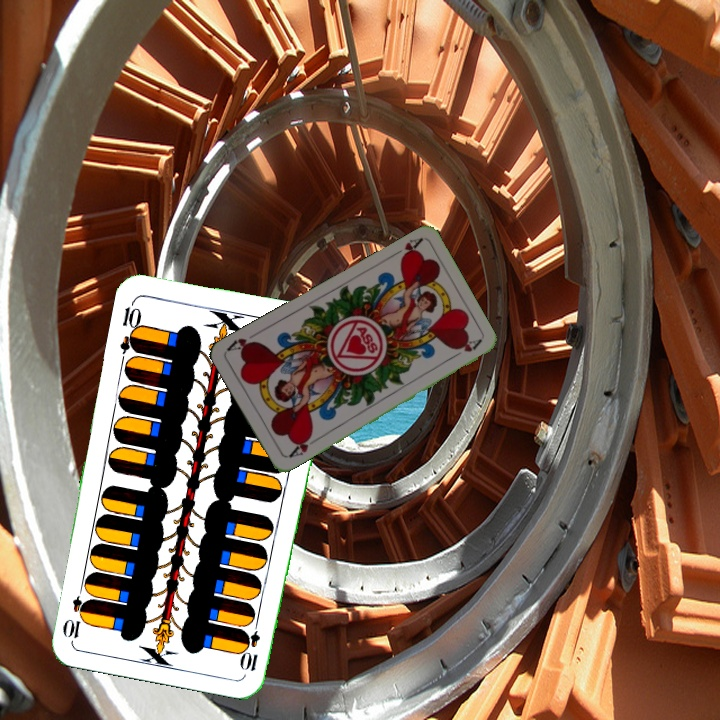E10: (115, 296, 144, 355), (240, 615, 263, 674)
HA: (284, 430, 320, 460), (387, 234, 424, 263)
